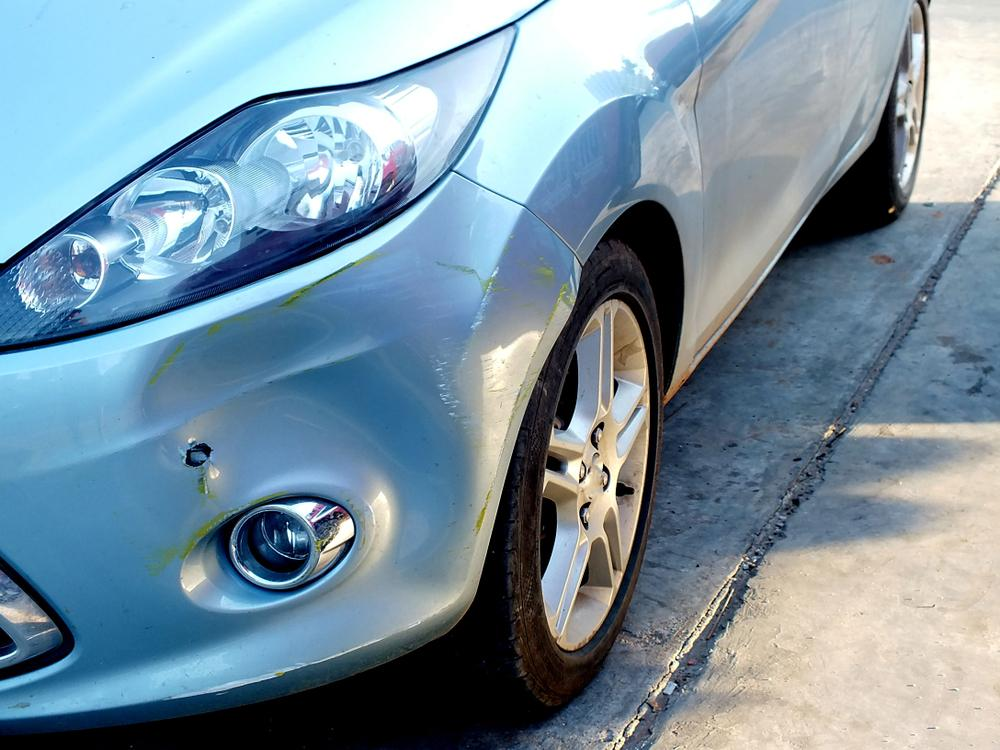dent: (144, 311, 458, 551)
scratch: (279, 254, 575, 471), (167, 635, 388, 705)
